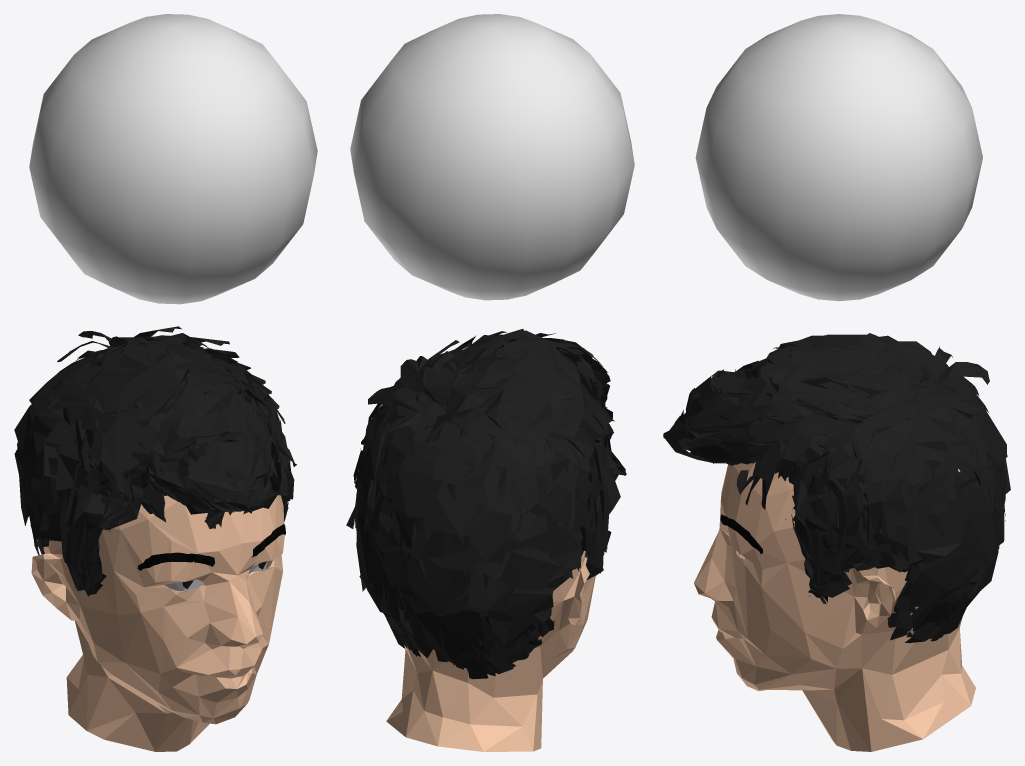
File: my head-08ad7dc7.gltf
3 views of the same model, side by side, from view 1: azimuth 30°, elevation 25°; view 2: azimuth 150°, elevation 25°; view 3: azimuth 270°, elevation 25° (orthographic).
Parts seen in each view (by area): view 1: test, Hair.3, FaceBuilderHead.1, eyebrow-eyebrow; view 2: Hair.3, test, FaceBuilderHead.1; view 3: Hair.3, test, FaceBuilderHead.1.
Boxes of the visible parts, bbox=[...] form: test: bbox=[29, 14, 317, 304]; Hair.3: bbox=[14, 326, 296, 596]; FaceBuilderHead.1: bbox=[31, 495, 284, 751]; eyebrow-eyebrow: bbox=[137, 524, 285, 570]; Hair.3: bbox=[346, 329, 626, 679]; test: bbox=[350, 14, 634, 300]; FaceBuilderHead.1: bbox=[386, 550, 595, 751]; Hair.3: bbox=[663, 333, 1010, 643]; test: bbox=[695, 14, 982, 301]; FaceBuilderHead.1: bbox=[694, 462, 975, 751].
Bounding box in the file's own units: 0.2 × 0.5475 × 0.242.
